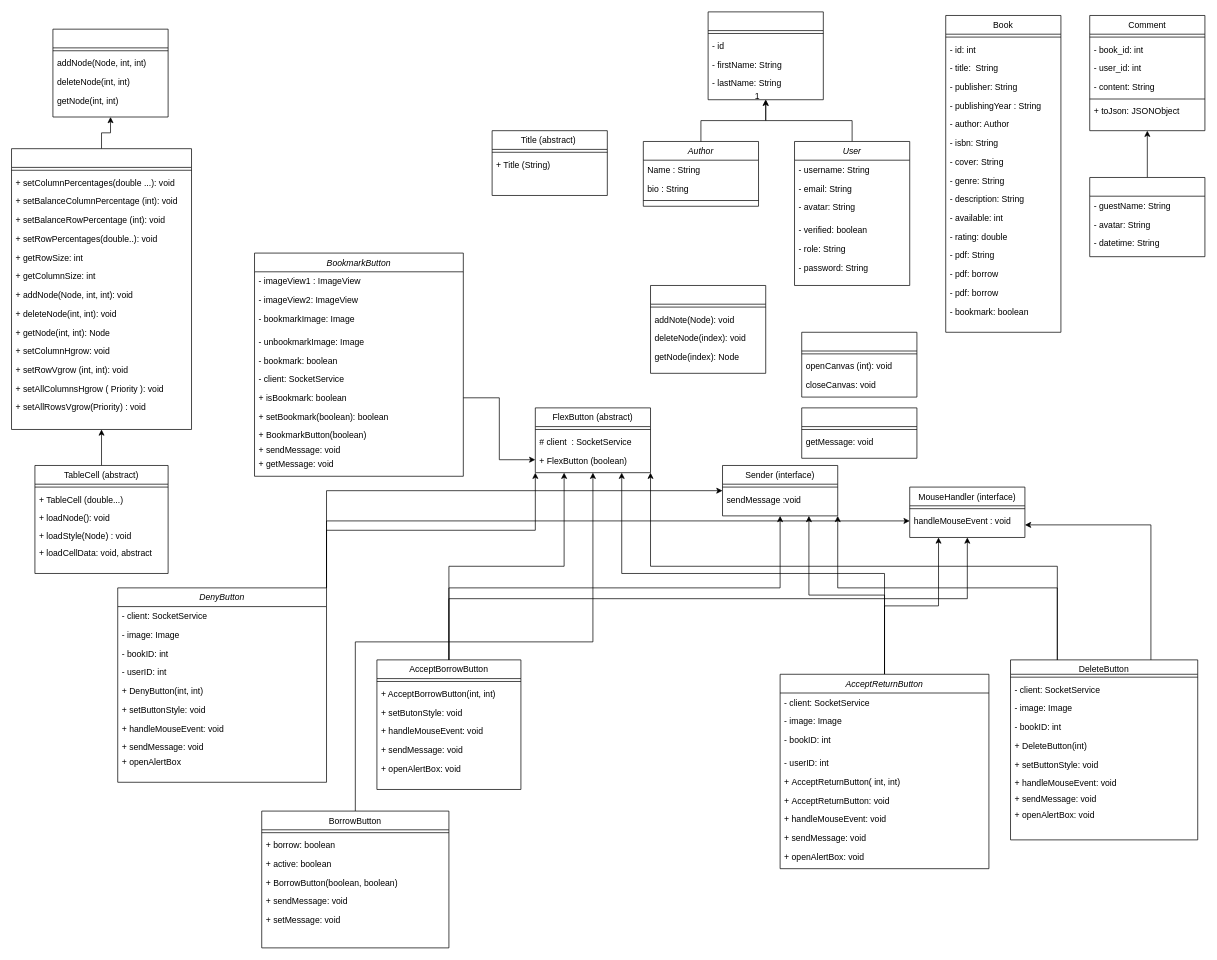
Some shapes in this 1217 by 960 pixel diagram are drawn without their labels. Here are the shapes that lost their labels. From the top down, the box of each, then its label:
(52, 28, 168, 117): IFlexContainer (Interface)
(707, 11, 823, 100): Person
(1089, 177, 1205, 257): GuestComment
(11, 148, 192, 429): FlexBox (abstract)
(650, 285, 766, 373): IContainer (interface)
(801, 332, 917, 397): Listener (interface)
(801, 407, 917, 458): Receiver (interface)
